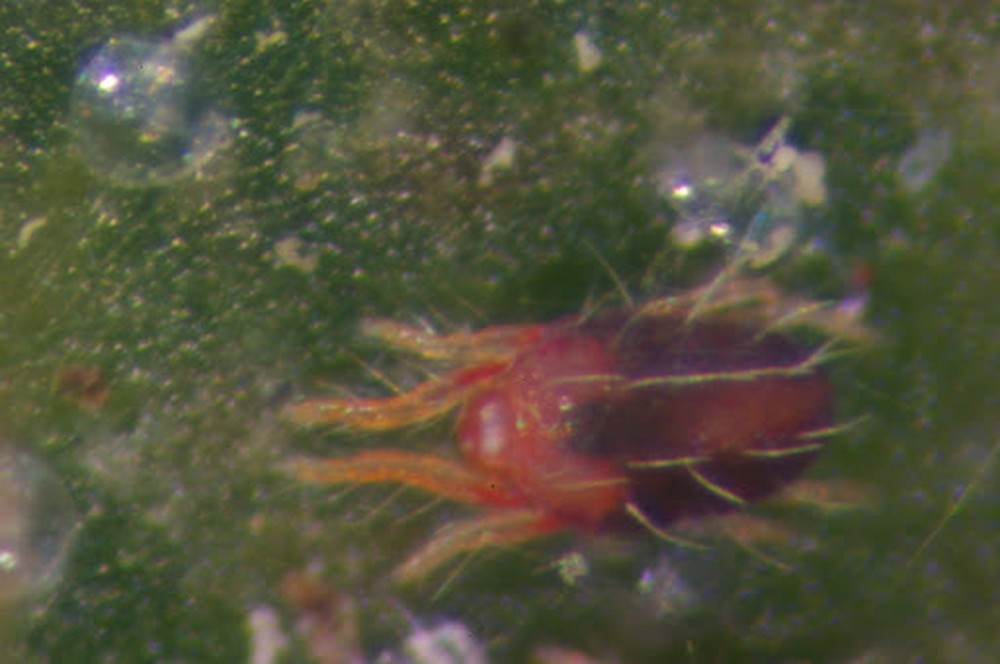Aracnido Rojo: (280, 250, 889, 590)
